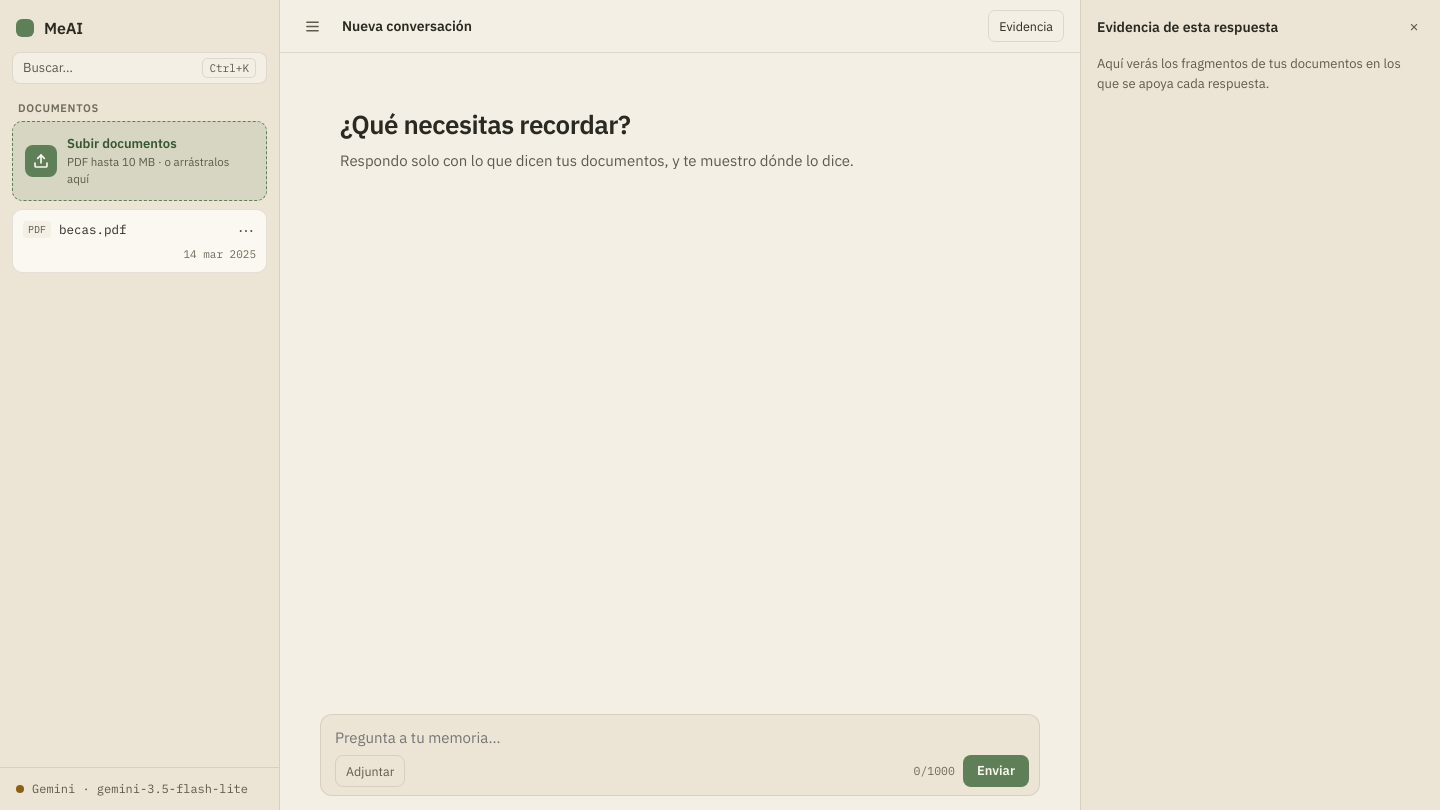
Test case: the palette filters commands and says when nothing matches
Expected: the element "becas.pdf" is shown, [12, 208, 267, 273]
Press k
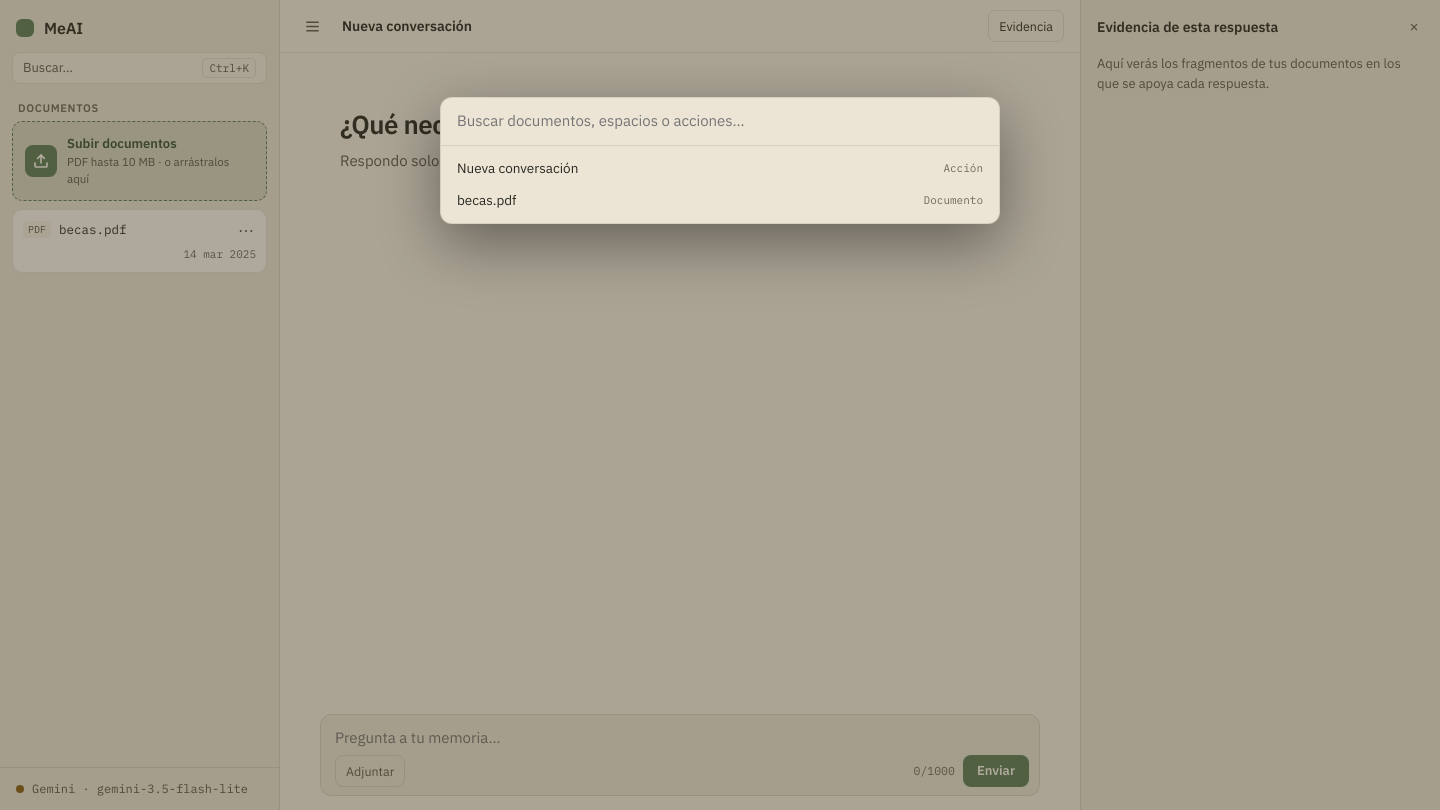
Expected: the button "Nueva conversación Acción" is shown, [447, 152, 993, 184]
Type "becas" into the field named "Buscar comandos" at (720, 122), box [441, 98, 999, 146]
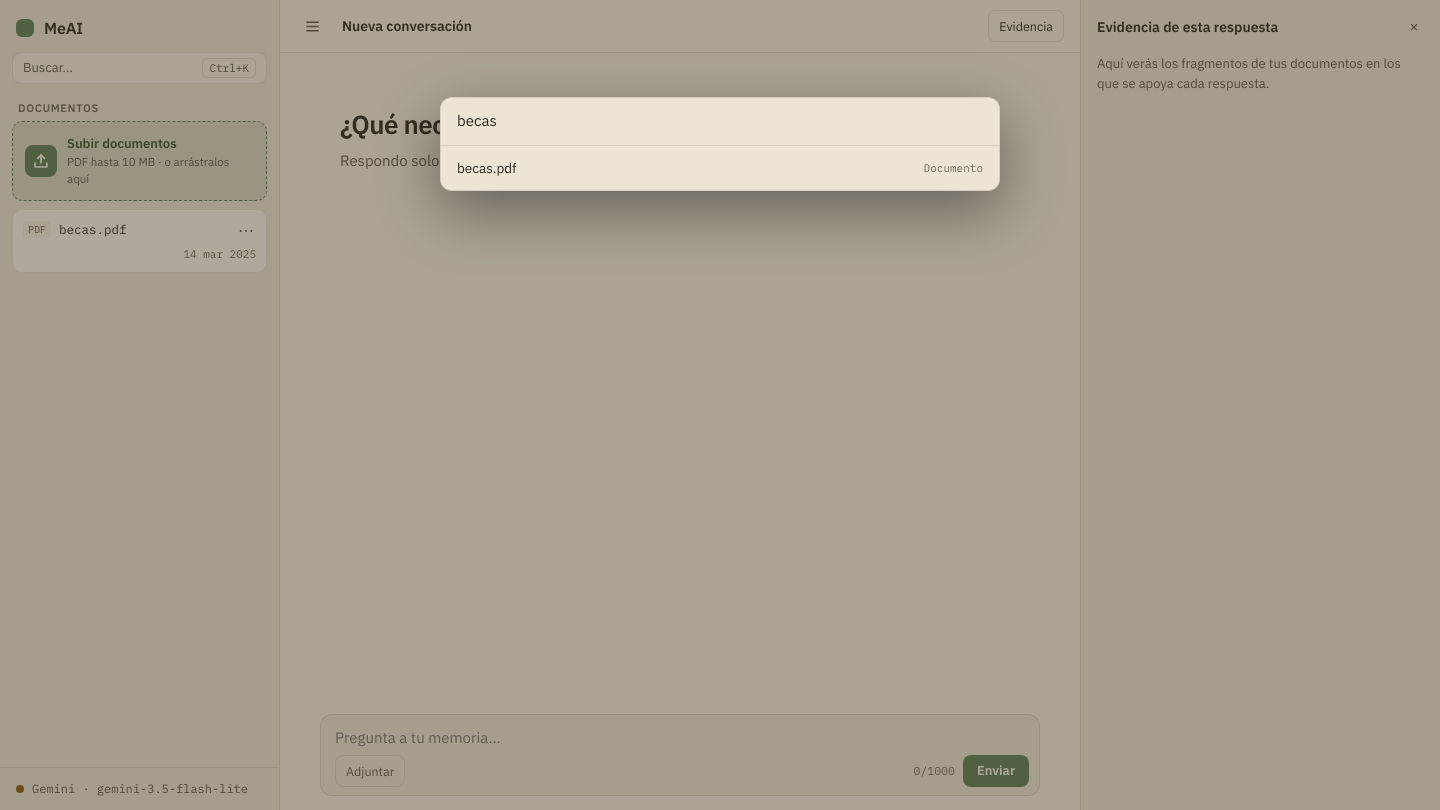
Expected: the button "becas.pdf Documento" is shown, [447, 152, 993, 184]
Replace the text in the field named "Buscar comandos" with "zzz" at (720, 122), box [441, 98, 999, 146]
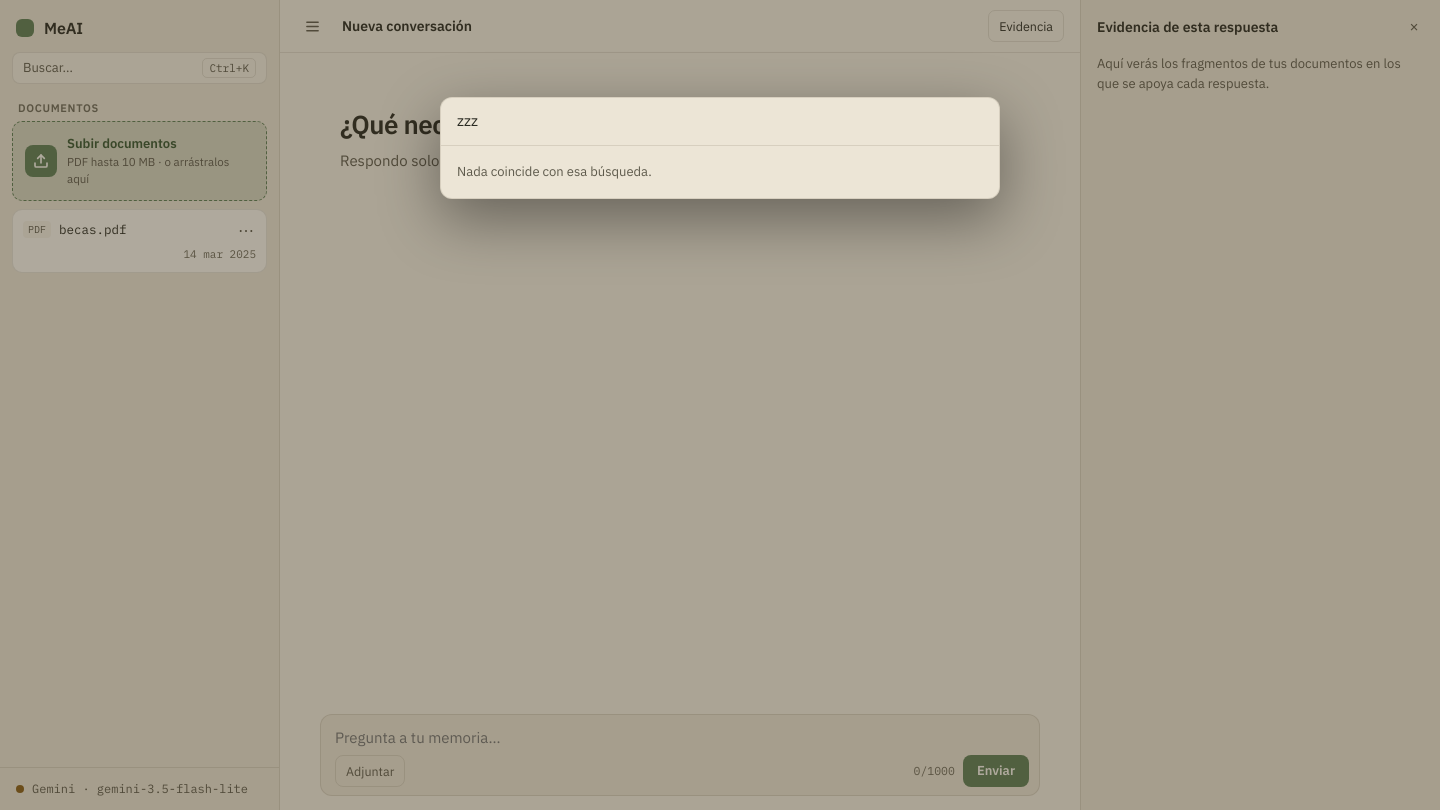
Expected: the text "Nada coincide con esa búsqueda." is shown, [457, 163, 652, 180]
